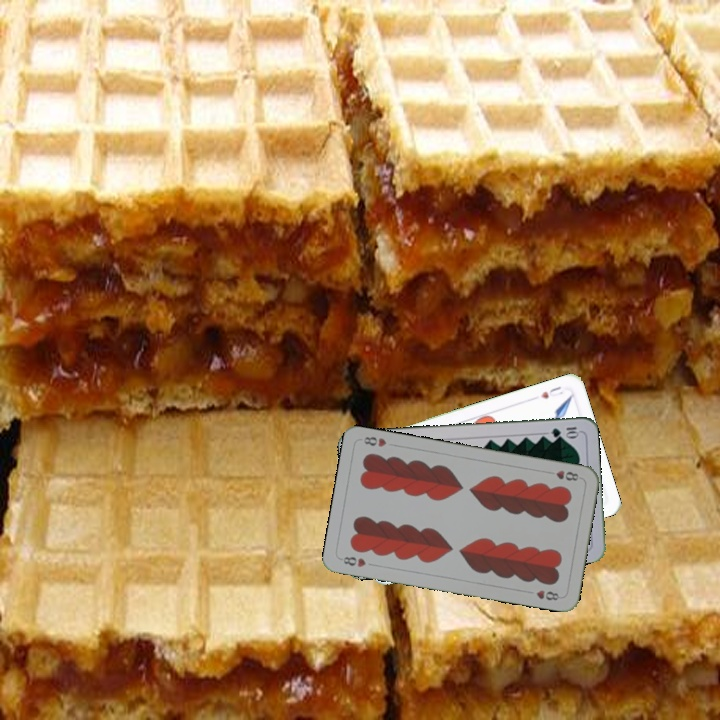G10: (547, 423, 581, 439)
H8: (543, 466, 584, 484), (337, 552, 368, 570)
HU: (536, 382, 566, 401)
